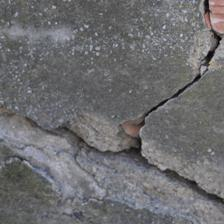Crack: (8, 112, 221, 203), (143, 3, 223, 118)
